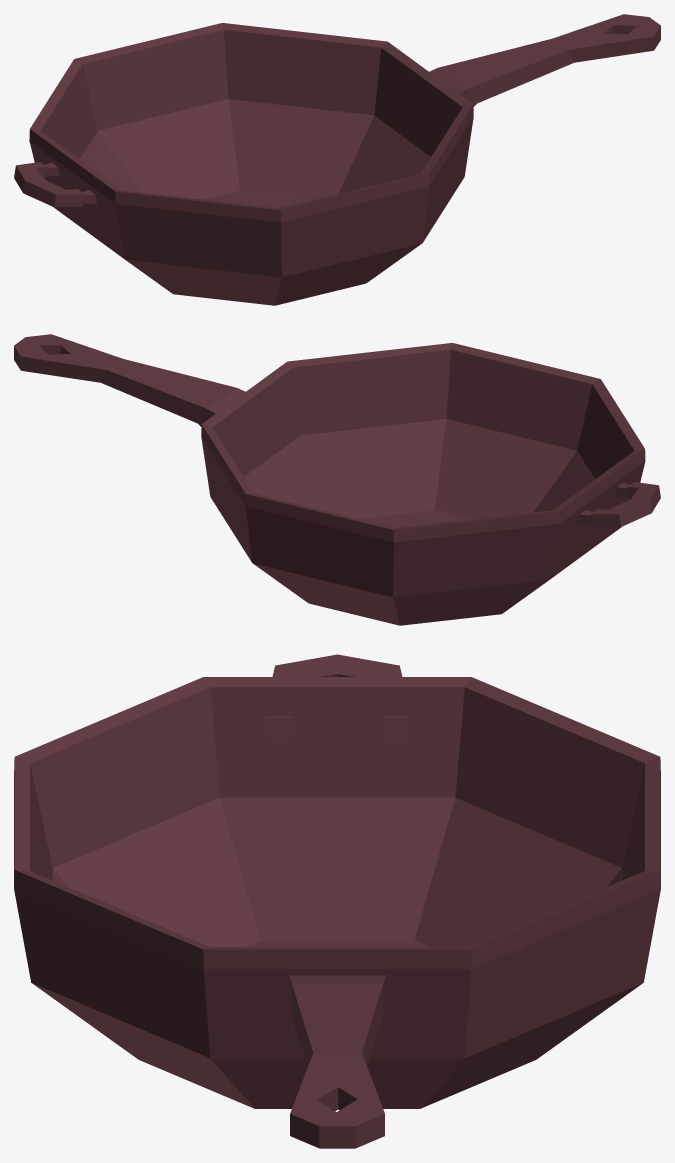
Rendered from pan-wok.fbx.
3 renders of one model, top to bottom at view 1: azimuth 30°, elevation 25°; view 2: azimuth 150°, elevation 25°; view 3: azimuth 270°, elevation 25°, orthographic. The views are drawn at different scales.
Parts seen in each view (by area): view 1: pan-wok; view 2: pan-wok; view 3: pan-wok.
Boxes of the visible parts, x1,y1,x2,y2 form: pan-wok: (14, 14, 660, 305); pan-wok: (14, 334, 660, 625); pan-wok: (14, 654, 660, 1148).
Bounding box in the file's own units: 0.5698 × 0.1145 × 0.3233.
